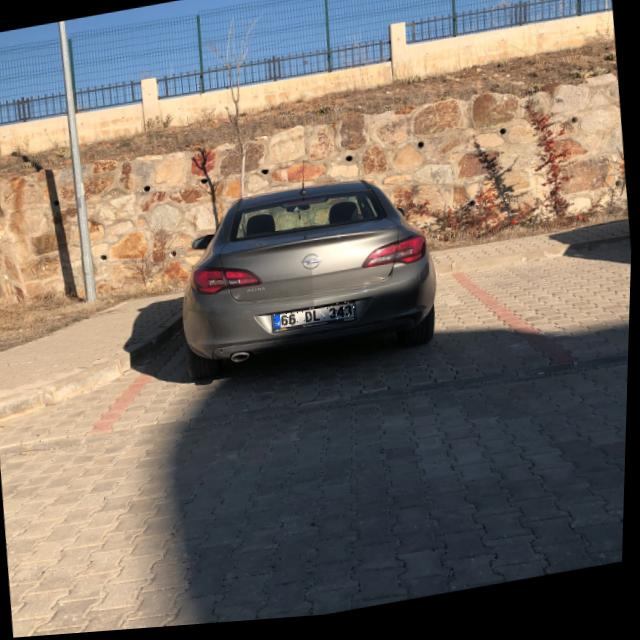license_plate: (273, 305, 358, 335)
